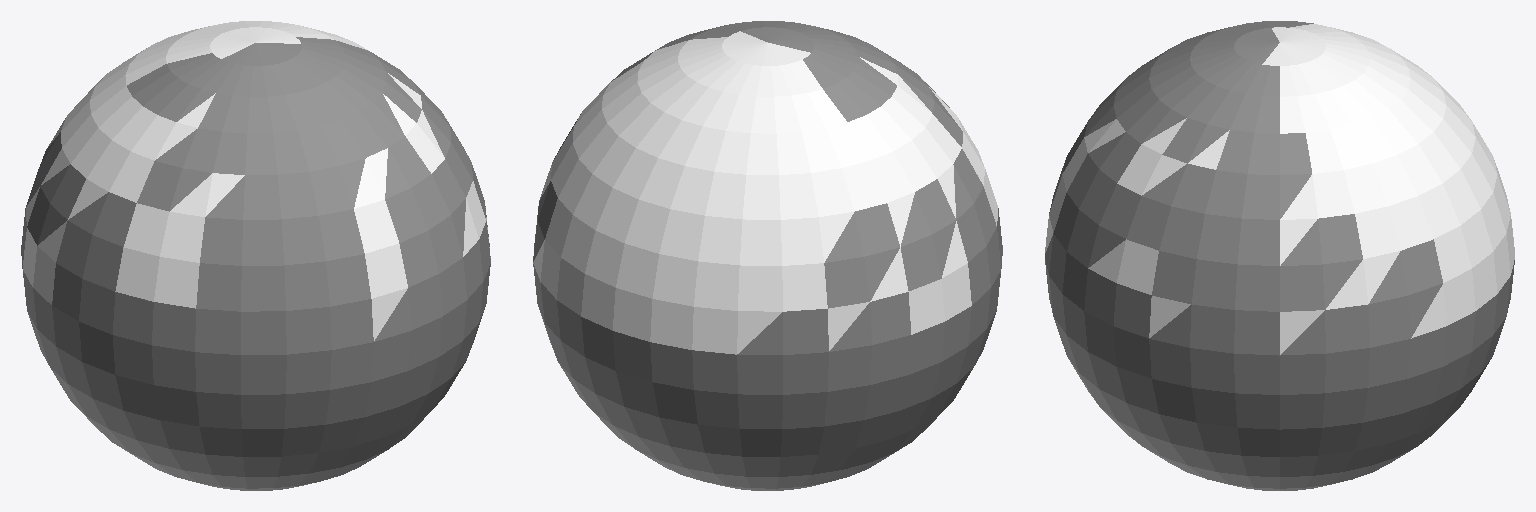
The picture shows the model from 3 angles: view 1: azimuth 30°, elevation 25°; view 2: azimuth 150°, elevation 25°; view 3: azimuth 270°, elevation 25°; orthographic projection.
Parts seen in each view (by area): view 1: Ball_Ball; view 2: Ball_Ball; view 3: Ball_Ball.
Part boxes in pixels (bbox=[...]): Ball_Ball: bbox=[21, 21, 490, 490]; Ball_Ball: bbox=[533, 21, 1002, 490]; Ball_Ball: bbox=[1045, 21, 1514, 490].
Bounding box in the file's own units: 2.54 × 2.54 × 2.54.
Materials: 3 (2 with a texture image).